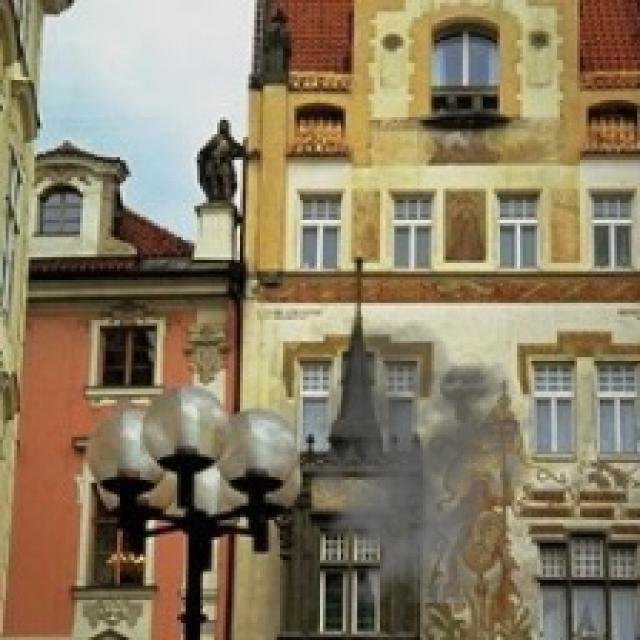smoke: (283, 320, 537, 603)
